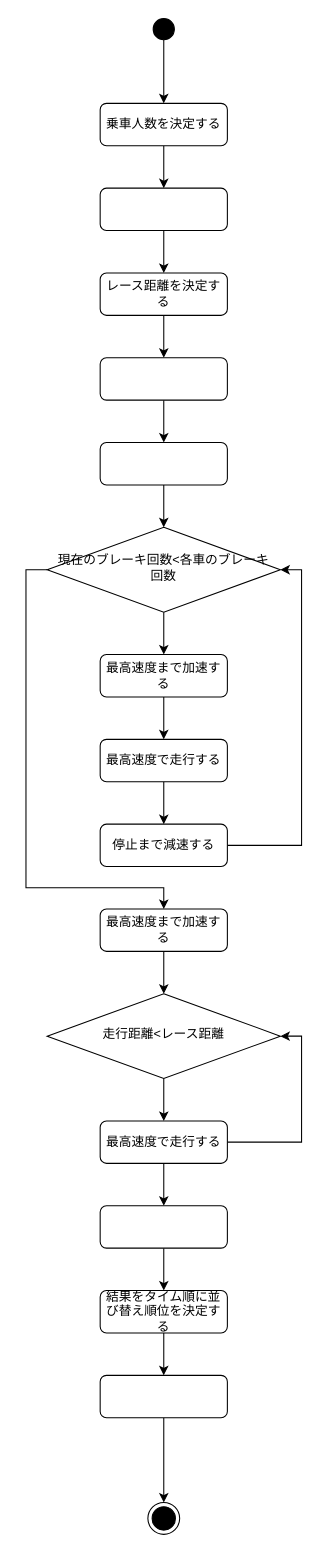
Some shapes in this 329 by 1553 pixel diagram are drawn without their labels. The shapes that lost their labels are listed below. From the top down, each one's centre as x and y in pixels, then its label:
[163,209]: 実際の加速度を計算する
[163,378]: 各車のブレーキ回数を決定する
[163,463]: レース開始
[163,1226]: レース終了
[163,1396]: 出力する
